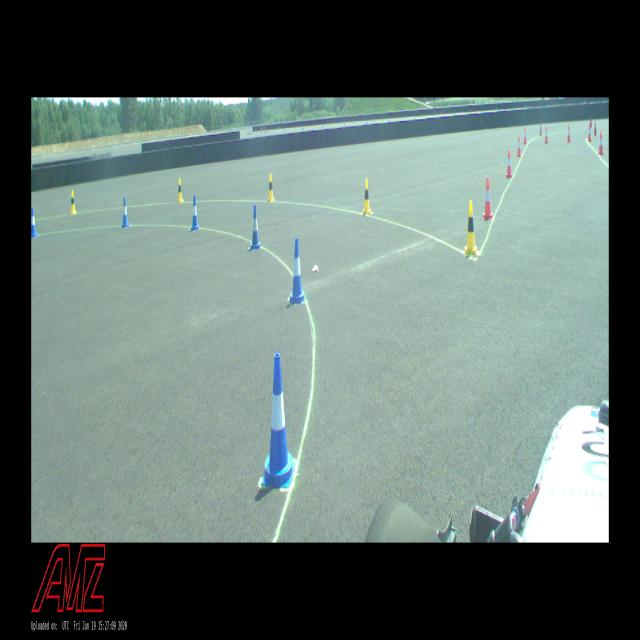blue_cone: (261, 353, 295, 488), (289, 238, 306, 304), (250, 205, 261, 250), (191, 196, 200, 230), (122, 198, 130, 228), (32, 208, 38, 236)
orange_cone: (483, 178, 493, 219), (506, 150, 512, 178), (598, 131, 604, 154), (516, 136, 522, 156), (587, 124, 592, 141), (567, 125, 571, 142), (544, 127, 548, 143), (524, 128, 528, 144)
yellow_cone: (464, 201, 478, 255), (363, 178, 371, 214), (268, 174, 274, 202), (178, 178, 184, 203), (70, 190, 76, 213)
